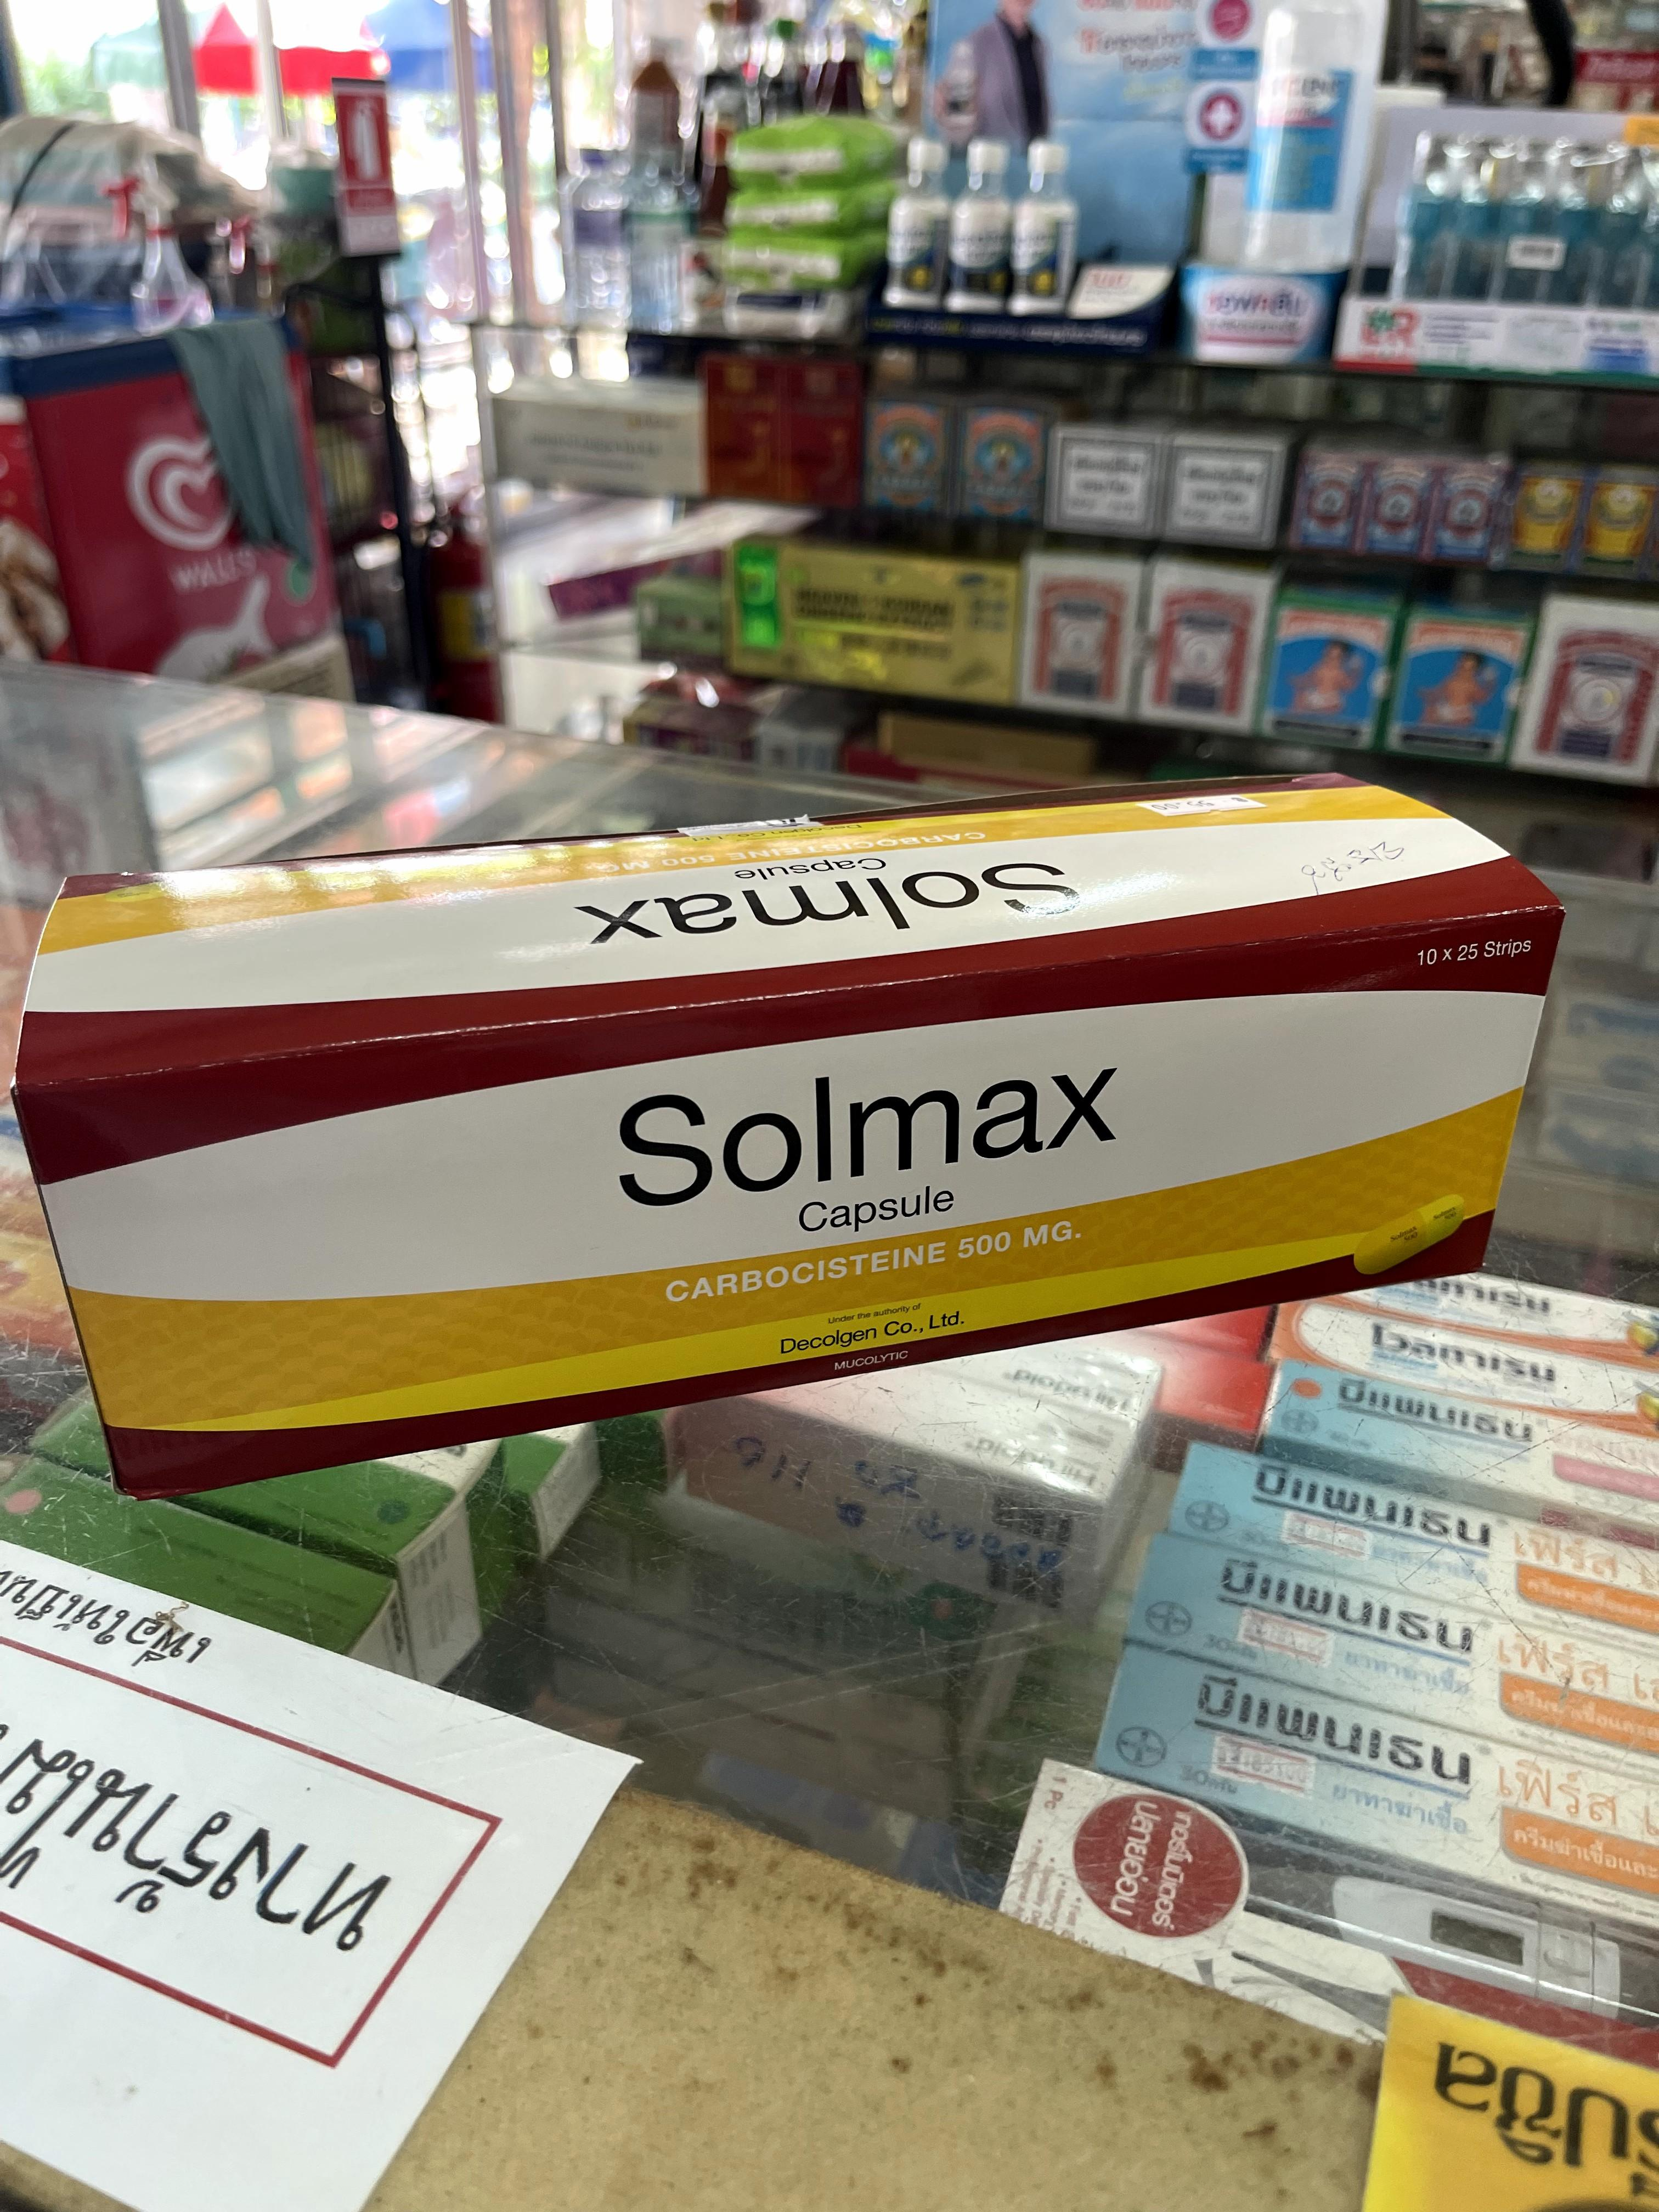Solmax-Capsule: (14, 763, 1568, 1505)
